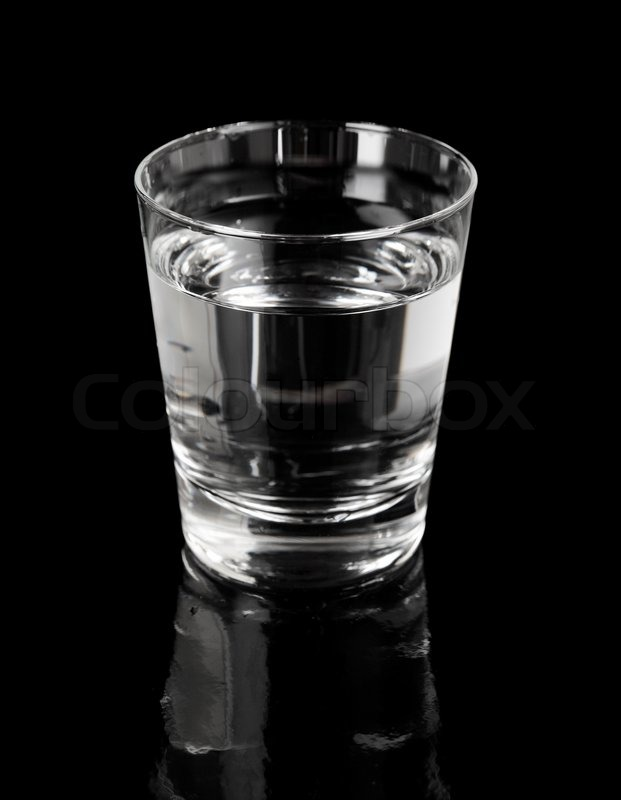glass of water: (121, 129, 474, 556)
